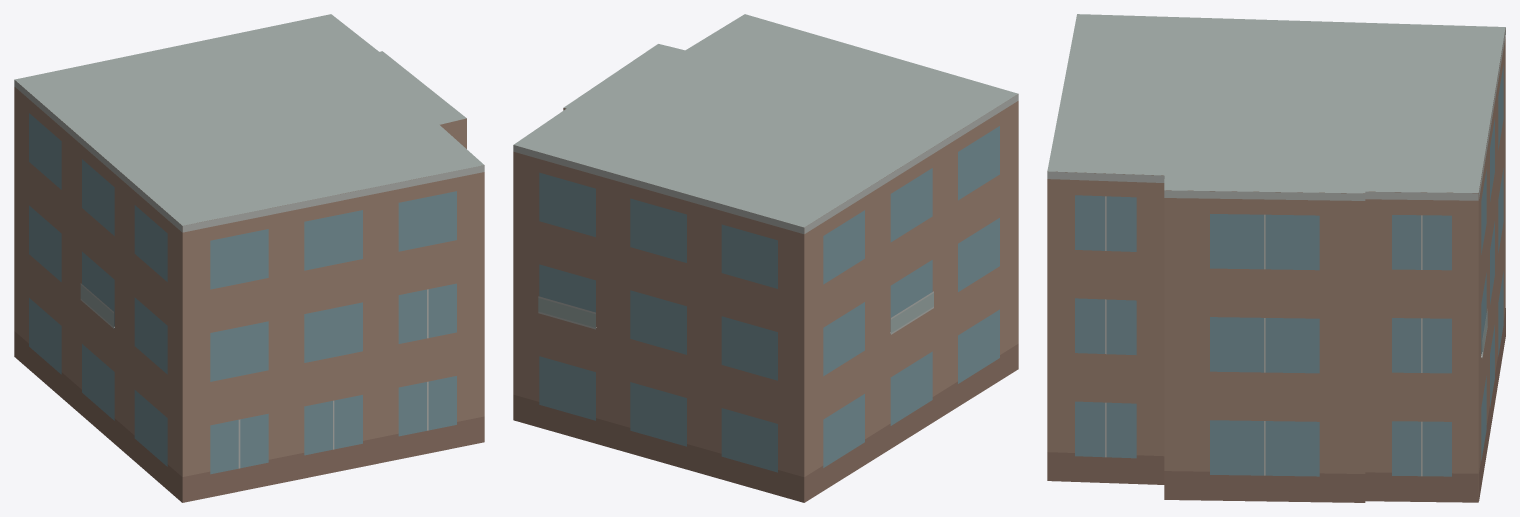
Rendered from survey-upis-32606964.glb.
3 views of the same model, side by side, from view 1: azimuth 30°, elevation 25°; view 2: azimuth 150°, elevation 25°; view 3: azimuth 270°, elevation 25° (orthographic). The views are drawn at different scales.
Parts seen in each view (by area): view 1: survey-upis-32606964.tmp; view 2: survey-upis-32606964.tmp; view 3: survey-upis-32606964.tmp.
Boxes of the visible parts, x1=… form: survey-upis-32606964.tmp: x1=14, y1=14, x2=484, y2=502; survey-upis-32606964.tmp: x1=513, y1=14, x2=1018, y2=502; survey-upis-32606964.tmp: x1=1047, y1=14, x2=1505, y2=502.
Size of the model in its own units: 12.32 by 9.9 by 13.3.
